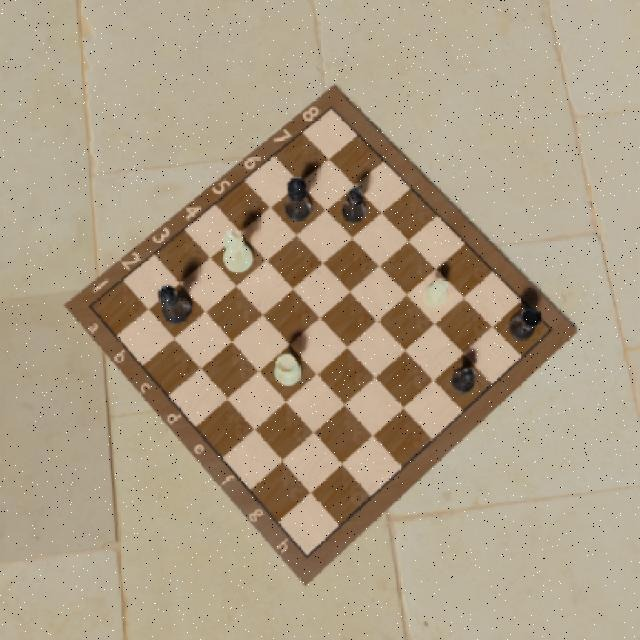black-bishop: (340, 188, 368, 224)
black-king: (156, 283, 195, 325)
black-pawn: (449, 365, 479, 395)
black-rook: (505, 304, 542, 344)
white-king: (223, 225, 254, 279)
white-pawn: (286, 174, 314, 225), (424, 274, 448, 312)
white-rook: (271, 352, 303, 388)
